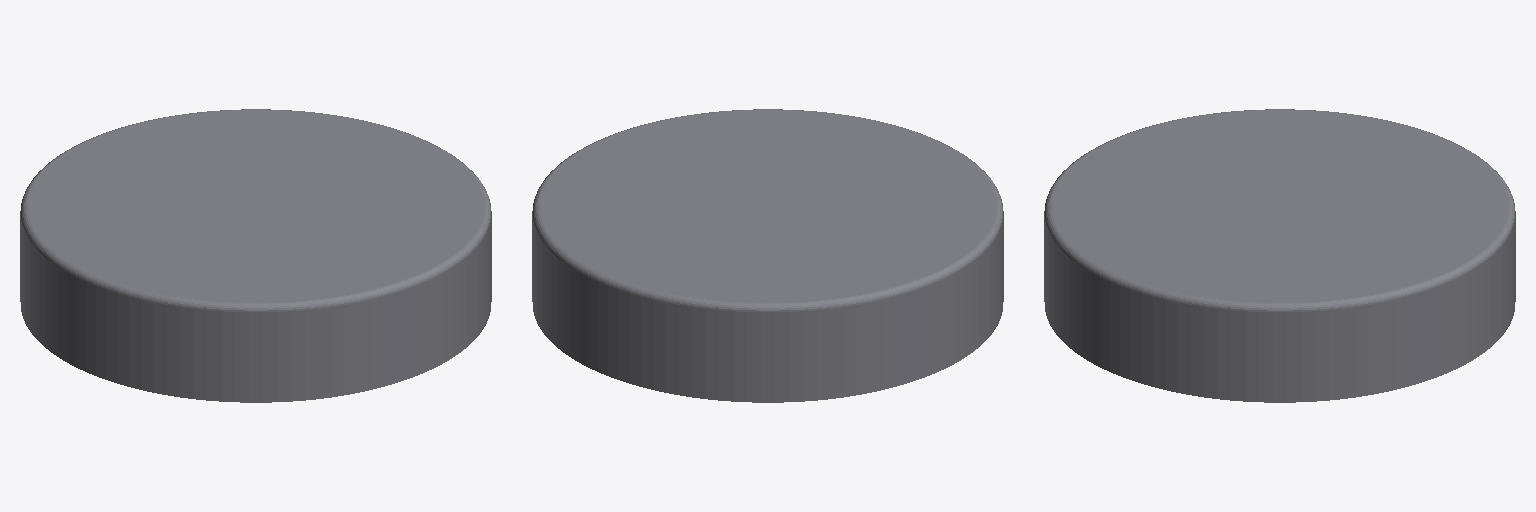
robot.urdf — cb_bottlecap3:
<?xml version="1.0"?>
<!-- ContactBench bottle / cap. Generated by FoundationTouch tools/contactbench/bottle_tasks.py -->
<robot name="cb_bottlecap3">
  <material name="c"><color rgba="0.55 0.55 0.58 1.0"/></material>
  <link name="object">
    <visual><origin xyz="0 0 0" rpy="0 0 0"/><geometry><mesh filename="bottlecap3.obj" scale="1 1 1"/></geometry><material name="c"/></visual>
    <collision><origin xyz="0 0 0" rpy="0 0 0"/><geometry><mesh filename="coll_00.obj" scale="1 1 1"/></geometry></collision>
    <inertial><mass value="0.014430"/><origin xyz="0 0 0" rpy="0 0 0"/><inertia ixx="5.052820e-06" ixy="6.353137e-12" ixz="-3.625542e-10" iyy="5.050932e-06" iyz="9.424682e-09" izz="9.689857e-06"/></inertial>
  </link>
</robot>

--- Render facts (derived) ---
The picture shows the robot from 3 angles, left to right: view 1: azimuth 30°, elevation 25°; view 2: azimuth 150°, elevation 25°; view 3: azimuth 270°, elevation 25°; orthographic projection.
Model cb_bottlecap3 with 1 links and 0 joints (none), rooted at object, posed all joints at 0.
Visible links, largest first — view 1: object; view 2: object; view 3: object.
Link boxes in pixels (bbox=[...]): object: bbox=[20, 109, 491, 402]; object: bbox=[532, 109, 1003, 402]; object: bbox=[1044, 109, 1515, 402].
Bounding box of the posed robot: 0.0662 × 0.0662 × 0.015 m (x, y, z).
Meshes: 1 distinct files referenced, 1 mesh visuals loaded (1 OBJ).
